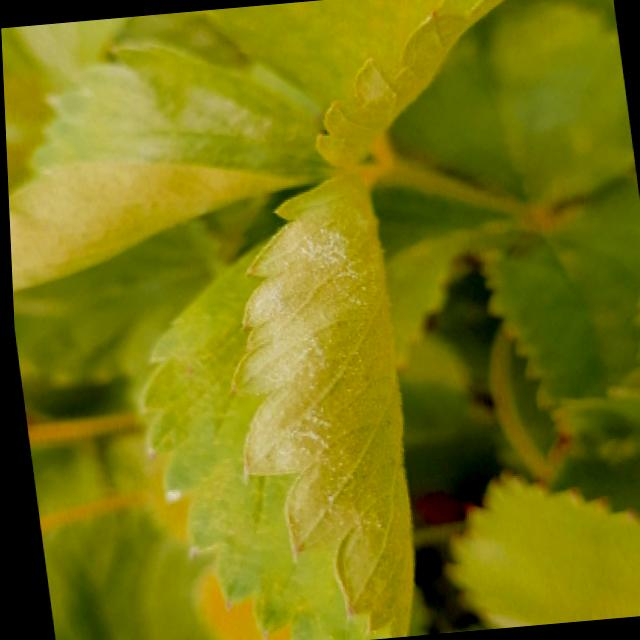Powdery Mildew Leaf: (136, 172, 408, 640)
